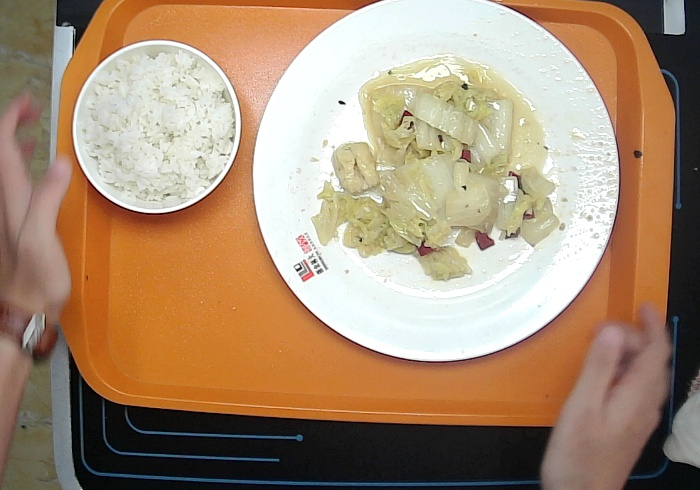ZNLD-Da_Yuan_Pan: (251, 1, 621, 364)
ZNLD-Fan_Wan: (70, 37, 242, 216)
